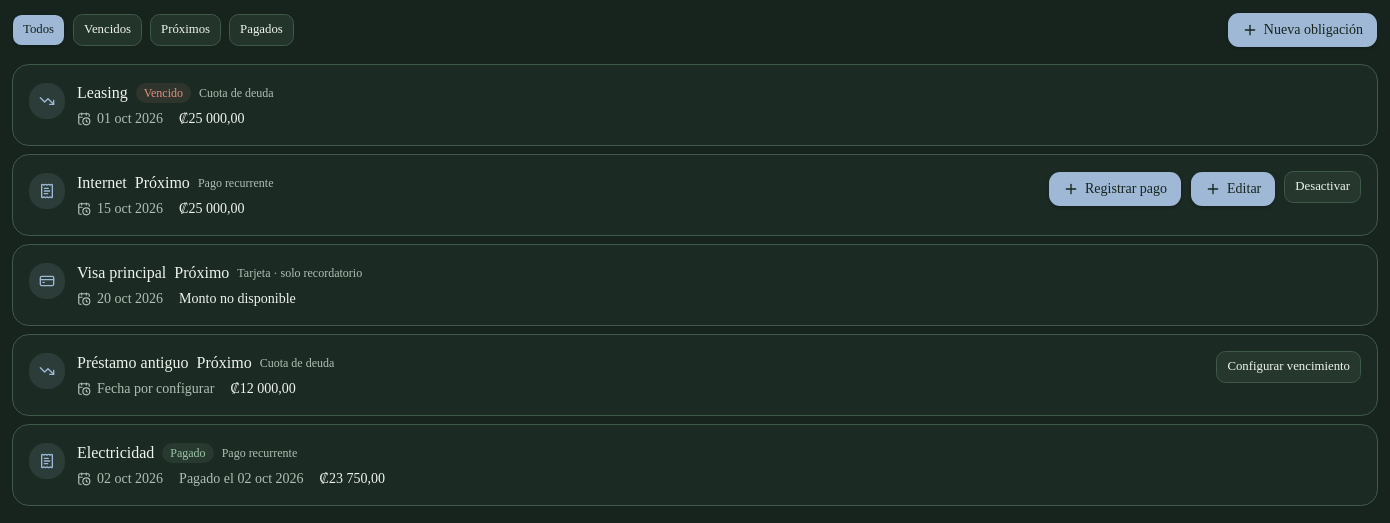
Test: filters overdue items and provides a configuration action for legacy debts
Click the button "Vencidos": click(108, 30) [73,14,142,46]
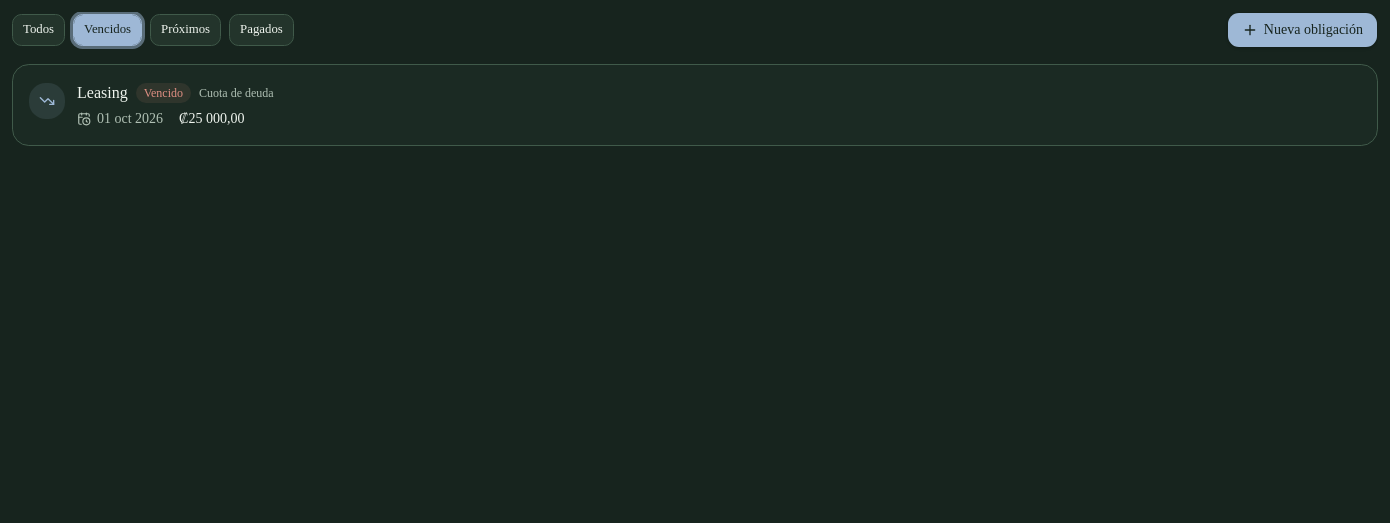
Expected: the text "Leasing" is shown, [77,81,128,105]
Result: the text "Internet" is gone
Click the button "Próximos": click(186, 30) [150,14,221,46]
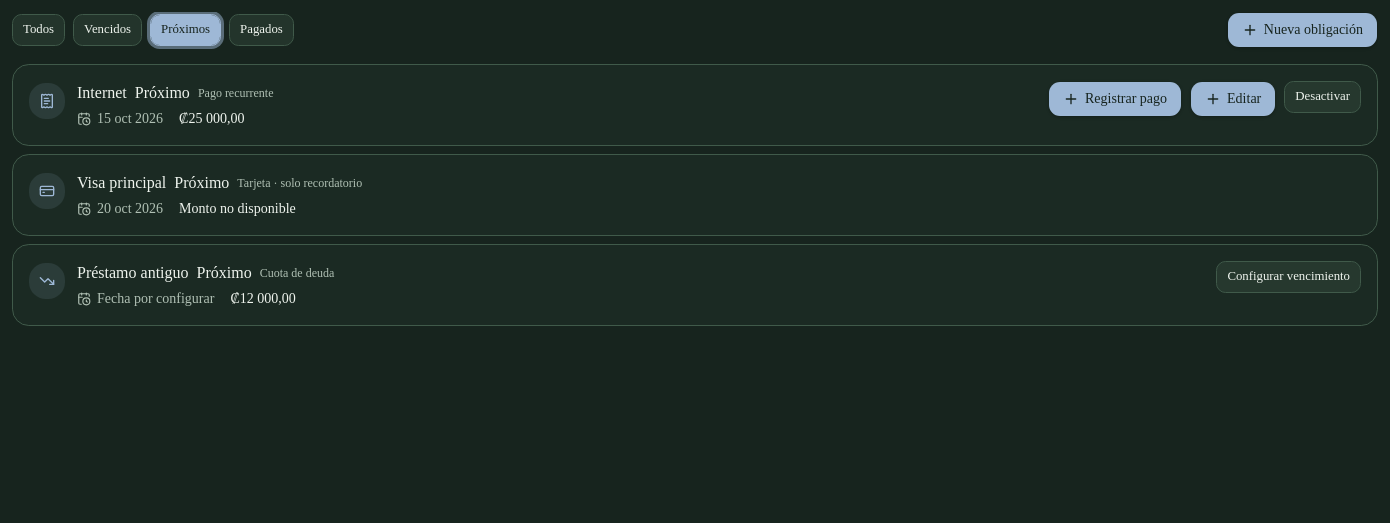
Result: the text "Préstamo antiguo" is shown at [77,261,188,285]
Result: the button "Configurar vencimiento" is shown at [1216,261,1361,293]
